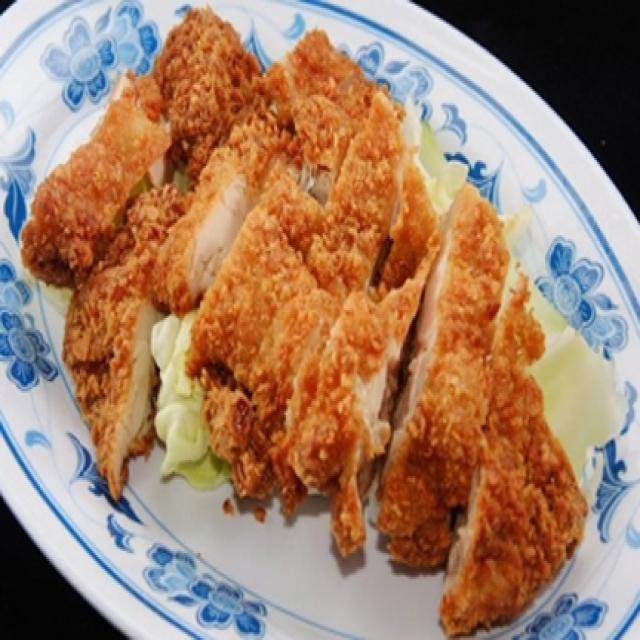鸡肉料理 含炸鸡: (27, 12, 613, 626)
